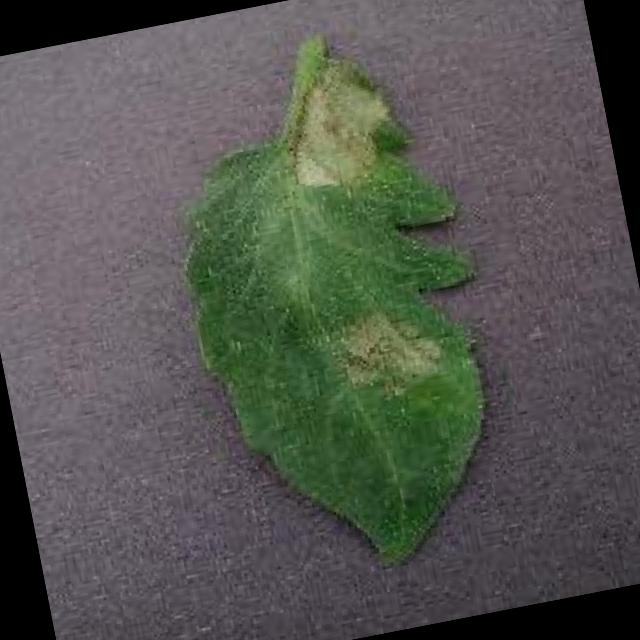leaf blight: (182, 37, 481, 572)
